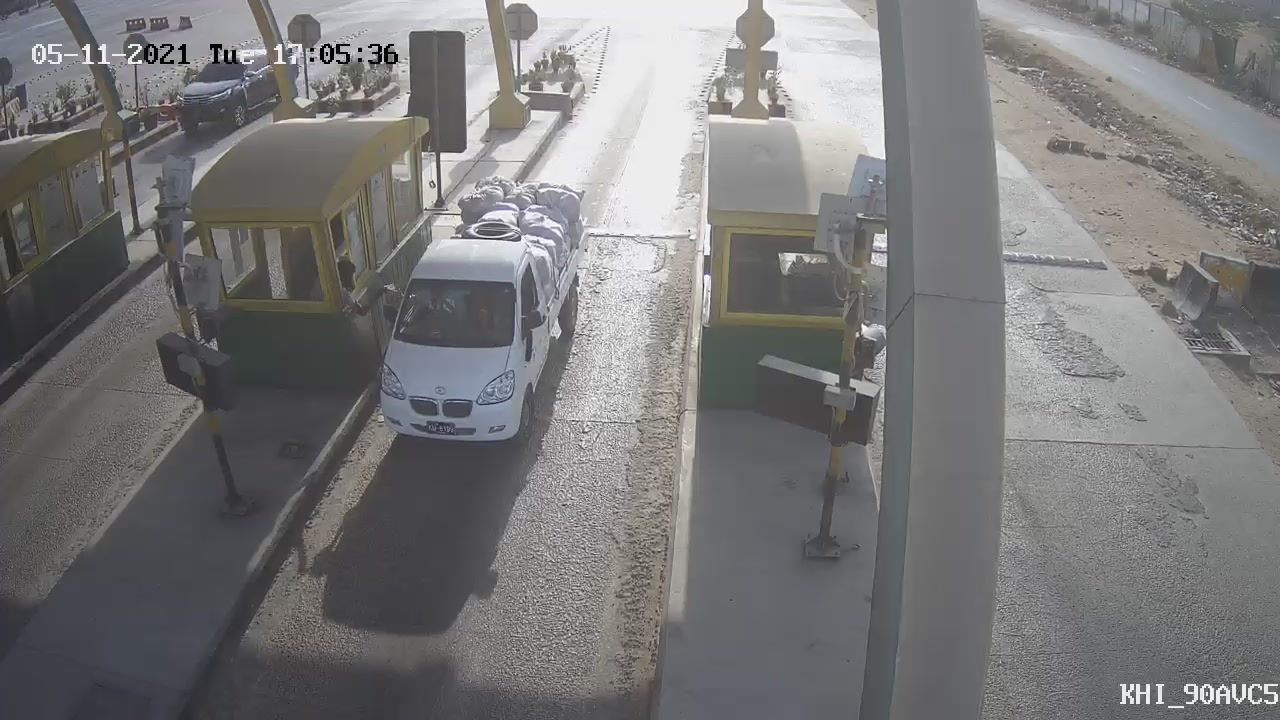F2: (343, 151, 607, 474)
